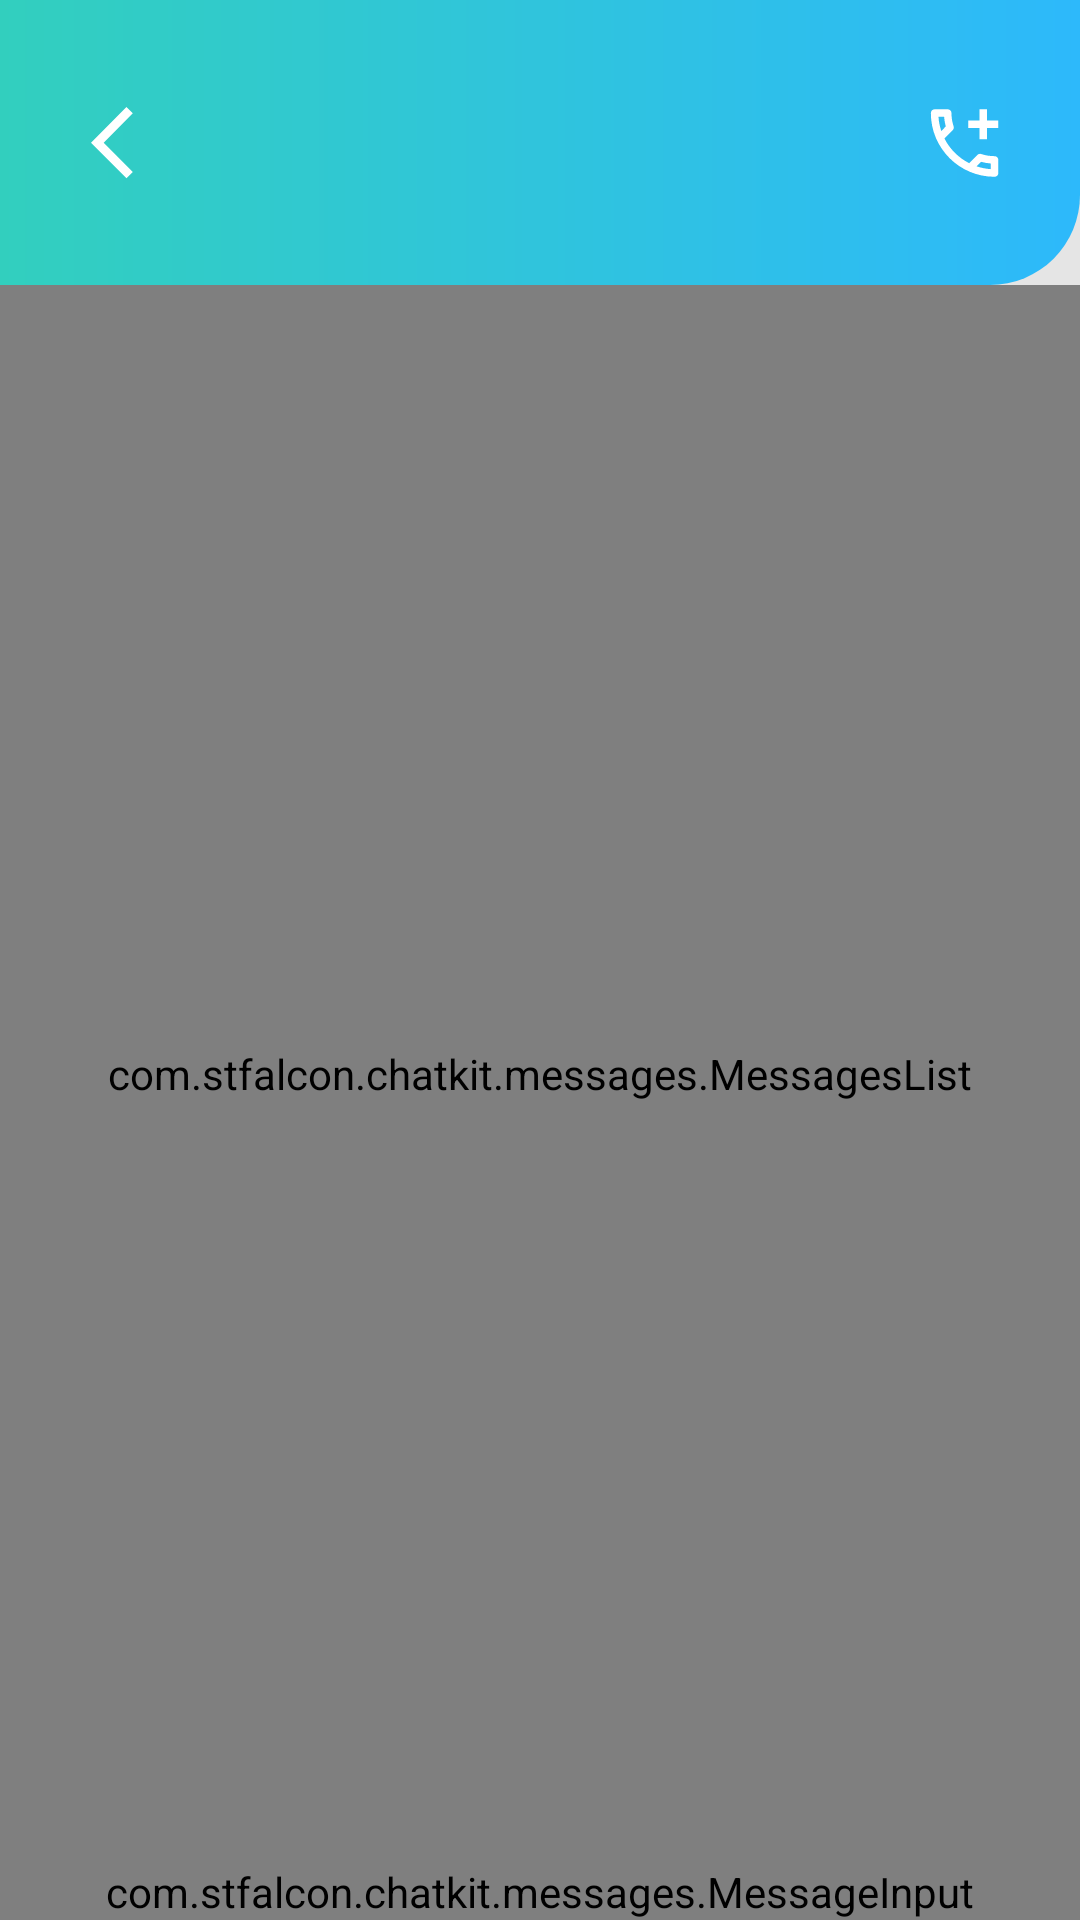

Point at icon controls on the screen. Image size 1080px x 1920px, points as point (x, y).
back arrow: point (112, 142)
call: point (964, 143)
